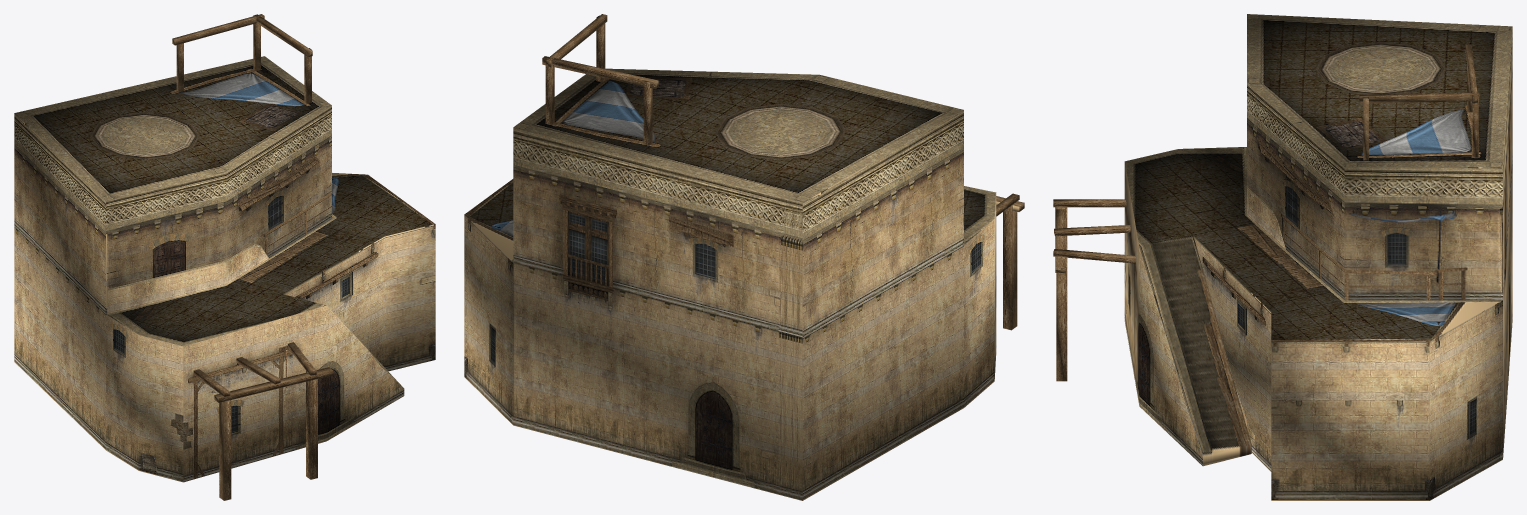
Rendered from oriental_houses_02_LOD3.obj.
The picture shows the model from 3 angles, left to right: view 1: azimuth 30°, elevation 25°; view 2: azimuth 150°, elevation 25°; view 3: azimuth 270°, elevation 25°; orthographic projection. The views are drawn at different scales.
Visible parts, largest first — view 1: oriental_houses_02_LOD3.obj; view 2: oriental_houses_02_LOD3.obj; view 3: oriental_houses_02_LOD3.obj.
Part boxes in pixels (box(x1,y1,x2,y2)): oriental_houses_02_LOD3.obj: box(14, 14, 435, 500); oriental_houses_02_LOD3.obj: box(464, 14, 1024, 500); oriental_houses_02_LOD3.obj: box(1053, 14, 1512, 500).
Bounding box in the file's own units: 471 × 400 × 470.
Materials: 1 (1 with a texture image).
